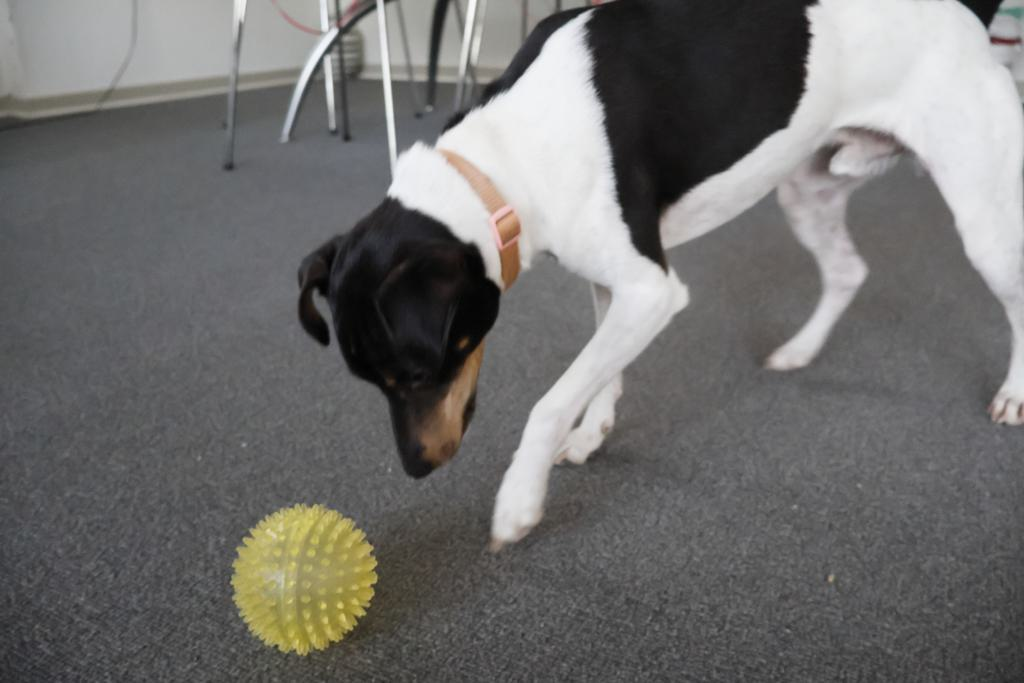Dog: (280, 0, 1024, 562)
